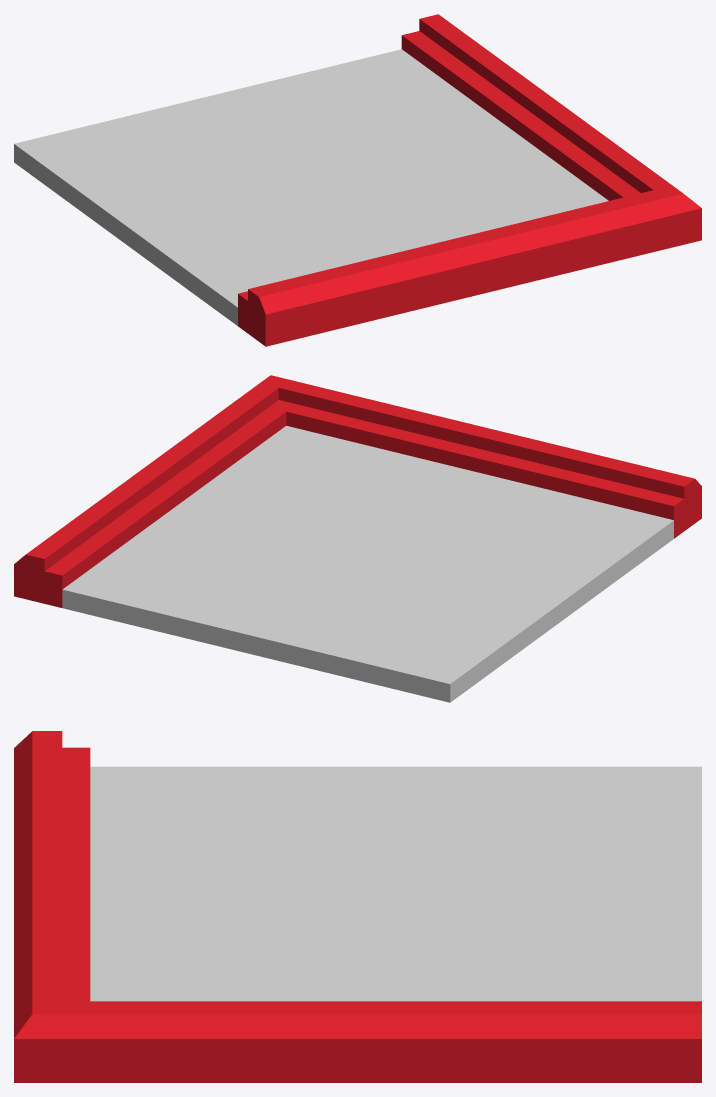
The model's file is Floor Corner.fbx.
3 renders of one model, top to bottom at view 1: azimuth 30°, elevation 25°; view 2: azimuth 150°, elevation 25°; view 3: azimuth 270°, elevation 25°, orthographic. The views are drawn at different scales.
Parts seen in each view (by area): view 1: Floor border; view 2: Floor border; view 3: Floor border.
Boxes of the visible parts, bbox=[...] form: Floor border: bbox=[14, 14, 701, 346]; Floor border: bbox=[14, 375, 701, 702]; Floor border: bbox=[14, 731, 701, 1082].
Size of the model in its own units: 400 by 39.19 by 400.
